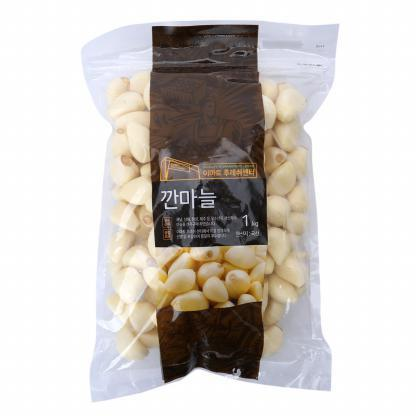garlic: (104, 226, 151, 274), (264, 160, 299, 200), (272, 119, 306, 158), (104, 199, 142, 233), (119, 169, 151, 208), (264, 224, 292, 266), (224, 245, 270, 270), (108, 93, 146, 122), (198, 264, 226, 303), (110, 152, 141, 186), (263, 191, 292, 226), (108, 124, 136, 160), (263, 324, 291, 360), (268, 271, 295, 308), (276, 258, 304, 292), (222, 266, 250, 300), (112, 266, 138, 298), (167, 268, 198, 293), (279, 98, 307, 123), (190, 246, 224, 260)
